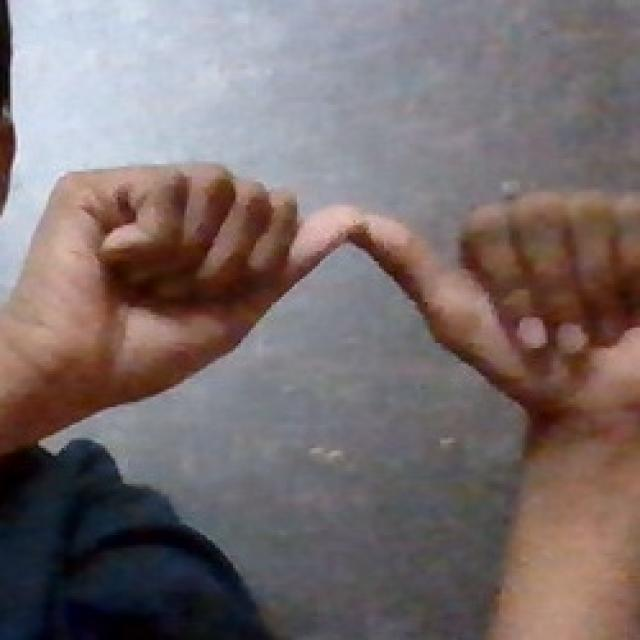Alphabet-A: (20, 160, 636, 446)
